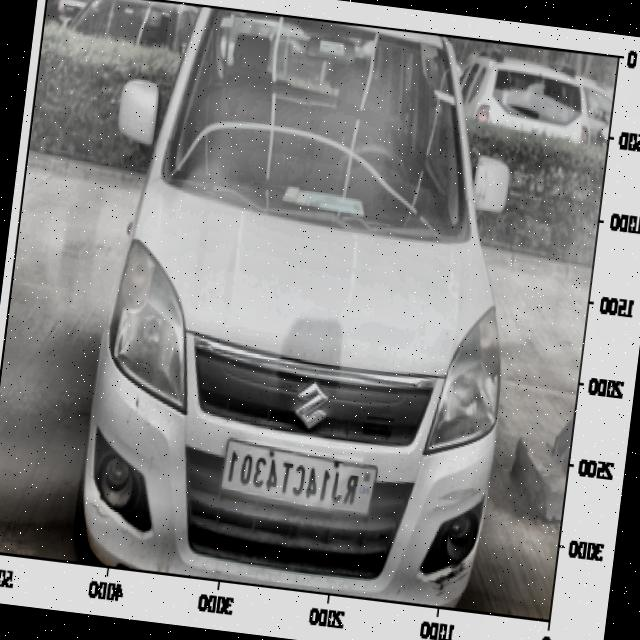license_plate: (218, 443, 368, 516)
